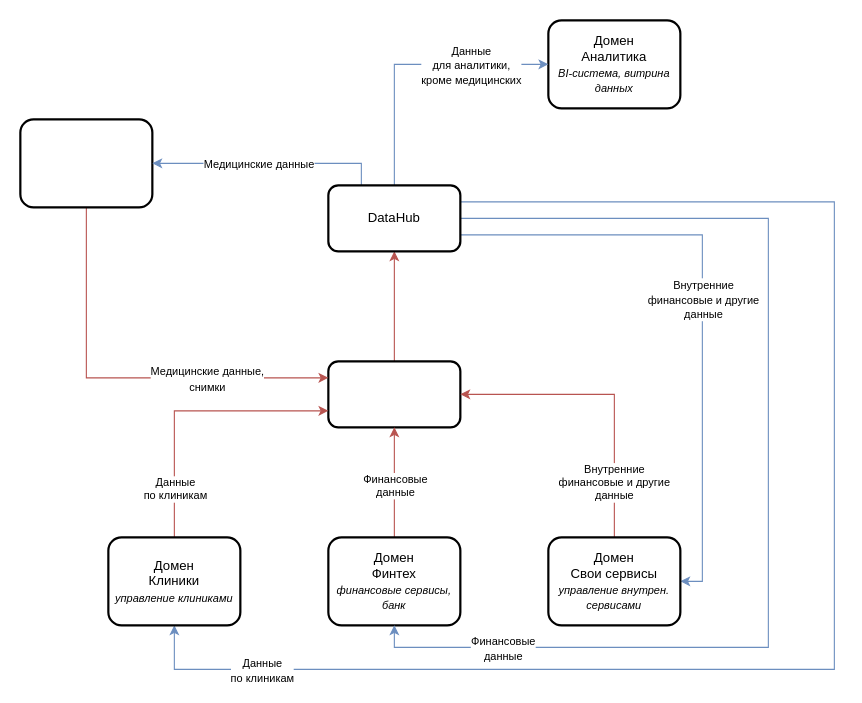
The diagram is 862 pixels wide and 703 high, and some of its shapes have lost their labels. The shapes that lost their labels are listed below. From the top down, each one's centre as x and y in pixels, then its label:
At [86,163]: "Домен Медицина клиентский интерфейс, ИИ-сервисы".
At [394,394]: "Интеграционая шина".
